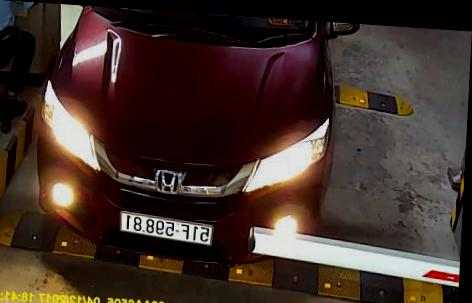License_Plate: (113, 211, 215, 243)
